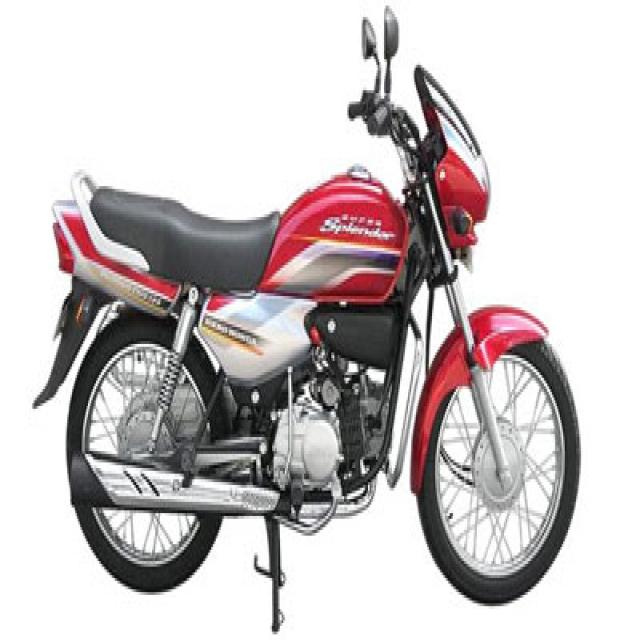Bike: (31, 4, 582, 634)
